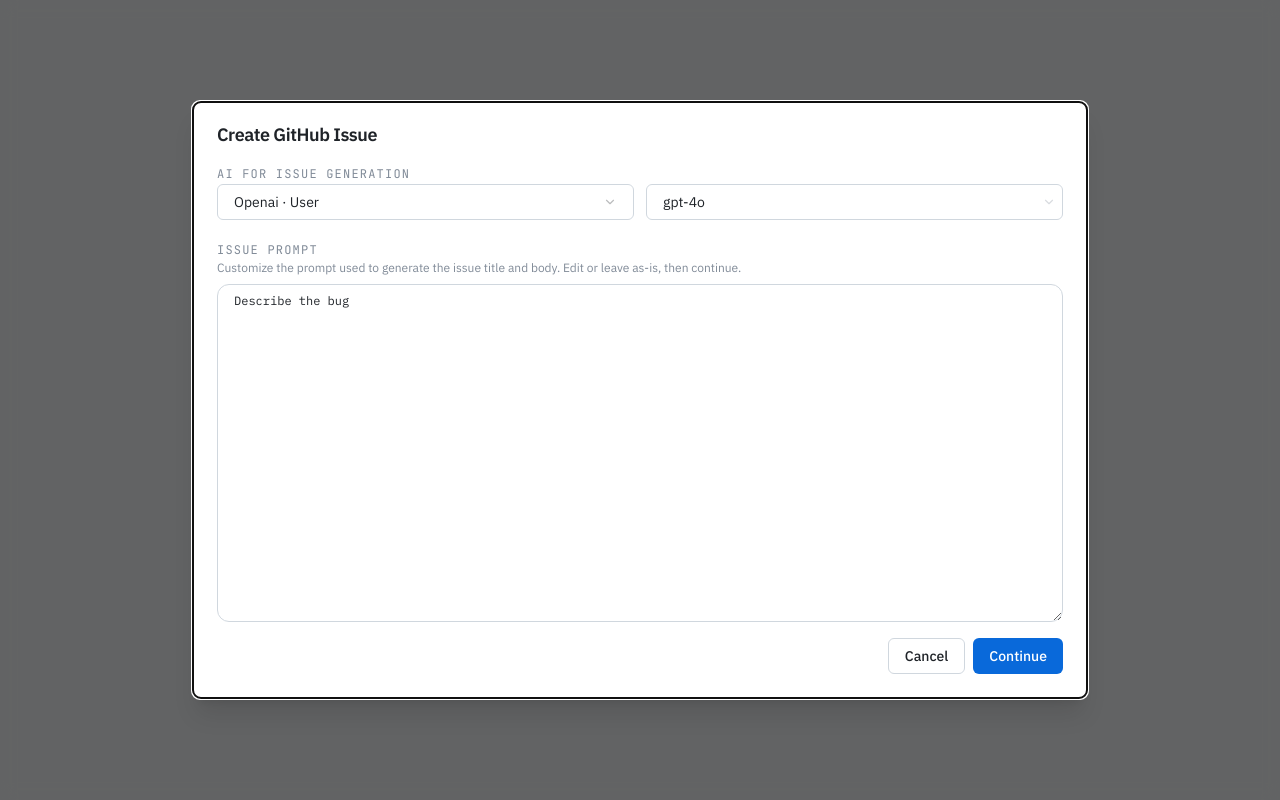
Test: BugCreationDialog AI picker › seeds the analysis pair and labels every provider option with its credential source
Expected: the text box labelled "Issue Prompt" is shown, x1=217 y1=284 x2=1063 y2=622
Expected: the text "AI for issue generation" is shown, x1=217 y1=166 x2=410 y2=182
Click the dropdown named "AI Provider" at (256, 202), box x1=217 y1=184 x2=634 y2=220
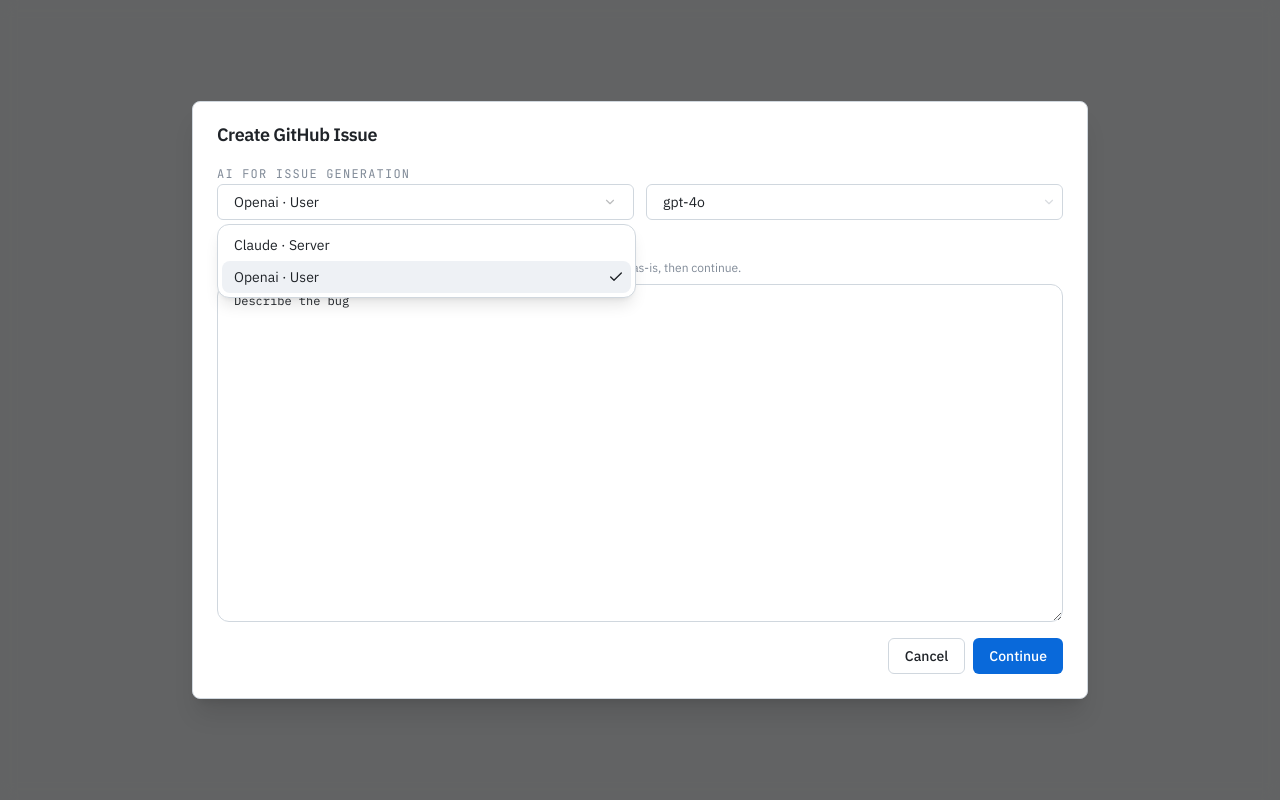
Now the option "Openai · User" is shown, box x1=222 y1=261 x2=631 y2=293
Now the option "Claude · Server" is shown, box x1=234 y1=236 x2=330 y2=254
